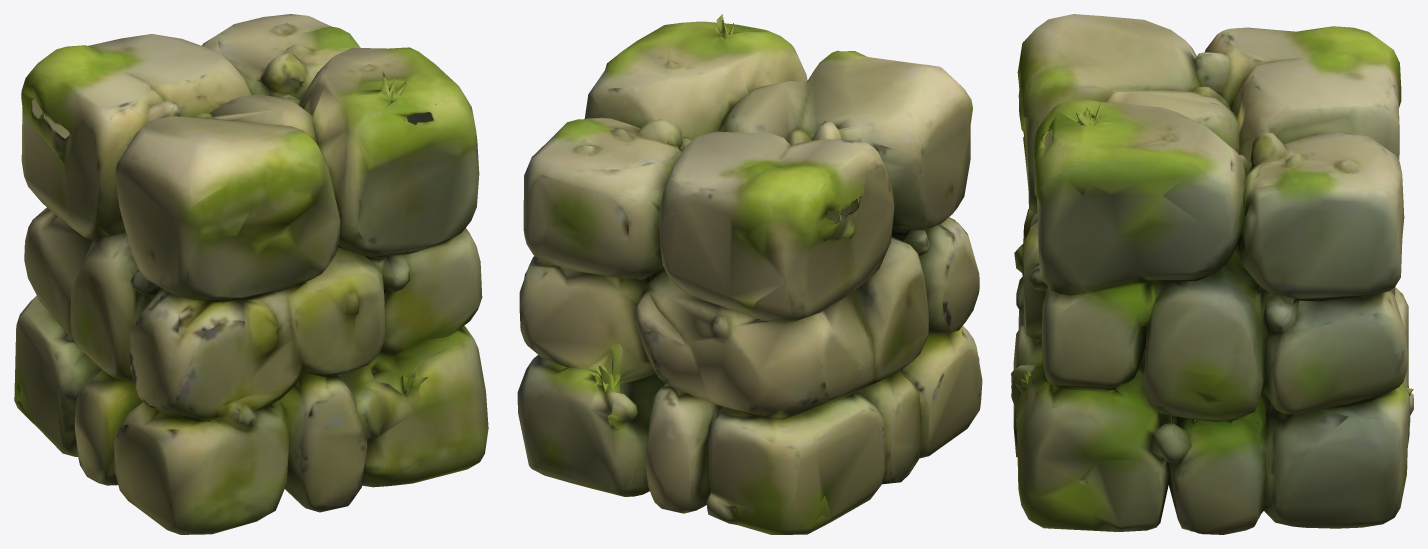
3 views of the same model, side by side, from view 1: azimuth 30°, elevation 25°; view 2: azimuth 150°, elevation 25°; view 3: azimuth 270°, elevation 25° (orthographic). The views are drawn at different scales.
Parts seen in each view (by area): view 1: world; view 2: world; view 3: world.
Boxes of the visible parts, bbox=[...] form: world: bbox=[14, 14, 488, 534]; world: bbox=[517, 14, 982, 534]; world: bbox=[1011, 14, 1413, 534].
Size of the model in its own units: 0.8635 by 0.956 by 0.8693.
1 material, 1 textured.
